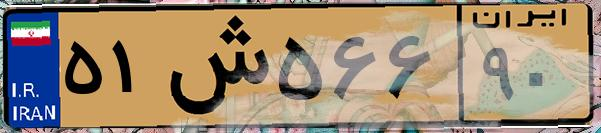0: (525, 38, 570, 115)
1: (110, 28, 158, 98)
5: (270, 28, 330, 110), (57, 26, 110, 100)
6: (385, 28, 445, 110), (330, 28, 385, 110)
9: (475, 38, 525, 113)
ش: (158, 12, 270, 120)
